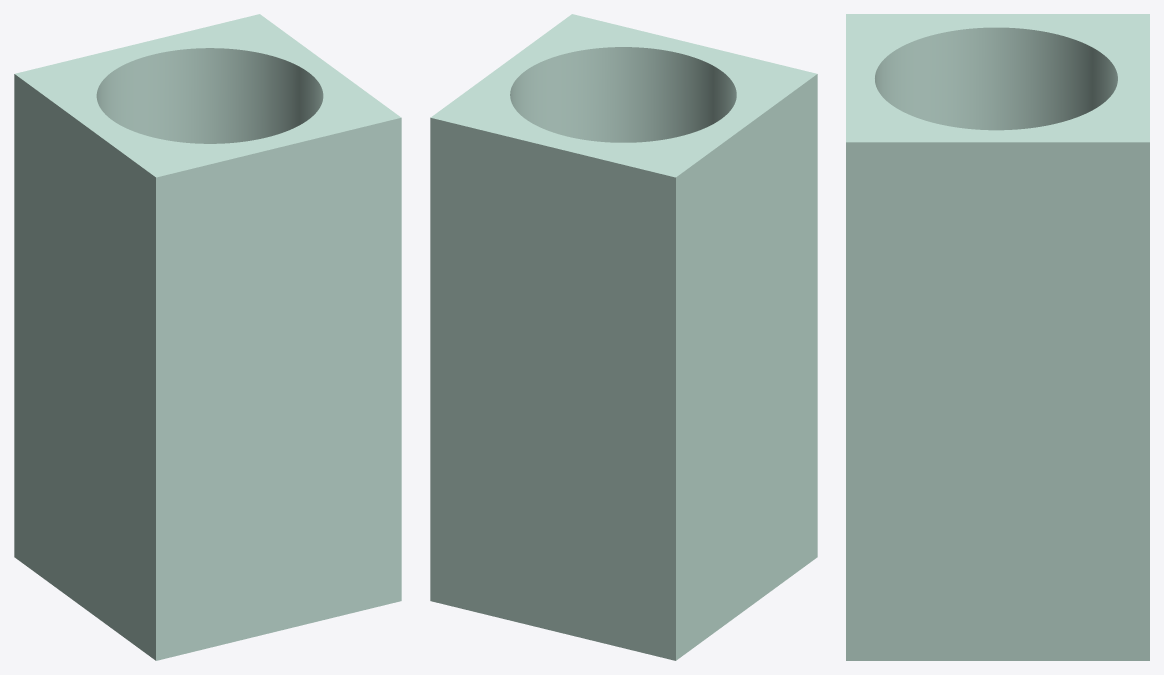
3 renders of one model, left to right at view 1: azimuth 30°, elevation 25°; view 2: azimuth 150°, elevation 25°; view 3: azimuth 270°, elevation 25°, orthographic. The views are drawn at different scales.
Parts seen in each view (by area): view 1: Renderer Node; view 2: Renderer Node; view 3: Renderer Node.
Boxes of the visible parts, x1,y1,x2,y2 form: Renderer Node: [14, 14, 401, 660]; Renderer Node: [430, 14, 817, 660]; Renderer Node: [846, 14, 1149, 660].
Bounding box in the file's own units: 0.3984 × 0.75 × 0.3984.
